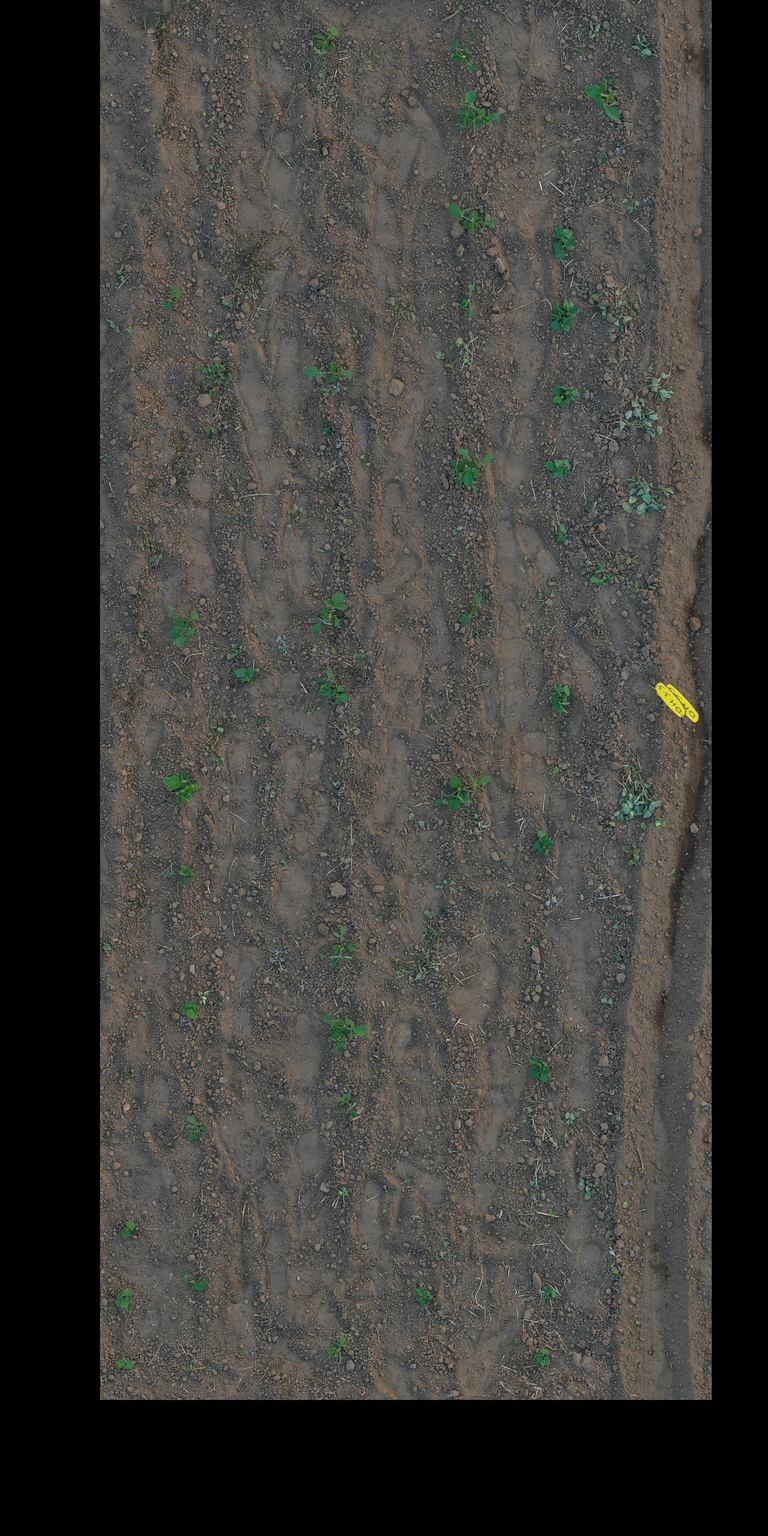s: (433, 772, 493, 811), (456, 448, 494, 494), (311, 591, 348, 634), (448, 202, 496, 233), (167, 605, 199, 648), (329, 924, 357, 969), (304, 361, 352, 383), (450, 40, 477, 72), (456, 89, 476, 132), (584, 82, 618, 107), (314, 26, 339, 58), (162, 864, 201, 884), (469, 107, 501, 131), (459, 593, 483, 624), (162, 770, 193, 792), (328, 1024, 368, 1041), (332, 1092, 358, 1118), (589, 560, 614, 586), (551, 225, 574, 253), (317, 684, 348, 704), (160, 285, 184, 310), (459, 284, 476, 318), (186, 1116, 208, 1142), (554, 235, 576, 260), (598, 98, 620, 121), (326, 1335, 348, 1358), (316, 668, 335, 693), (555, 298, 579, 317), (551, 384, 570, 408), (550, 683, 570, 704), (551, 692, 570, 714), (528, 1056, 550, 1075), (550, 305, 564, 332), (530, 1065, 551, 1083), (545, 460, 563, 480), (532, 830, 550, 850), (559, 385, 580, 401), (554, 458, 571, 477), (554, 522, 568, 543), (187, 1277, 208, 1291), (536, 840, 554, 856), (120, 1220, 136, 1238), (557, 316, 574, 332), (181, 1000, 198, 1016), (415, 1290, 432, 1306), (332, 1033, 347, 1051), (120, 1288, 133, 1308), (176, 788, 192, 804), (540, 1285, 556, 1300), (535, 1349, 551, 1364), (450, 458, 461, 478), (185, 781, 200, 795), (185, 1001, 196, 1020), (115, 1359, 134, 1370), (322, 1013, 340, 1024), (114, 1292, 124, 1308), (338, 1015, 355, 1024), (539, 1356, 550, 1366), (415, 1286, 422, 1294)
